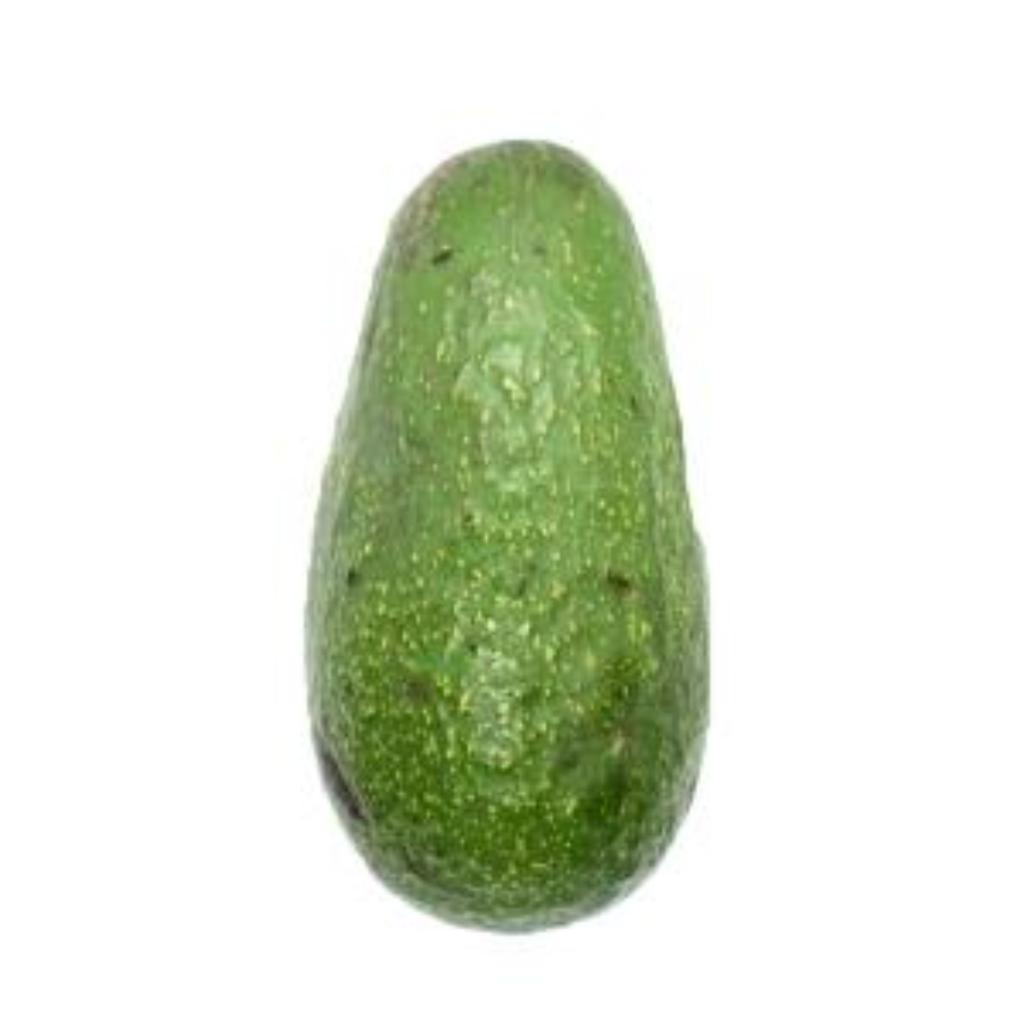cercospora_spot: (250, 121, 744, 957)
